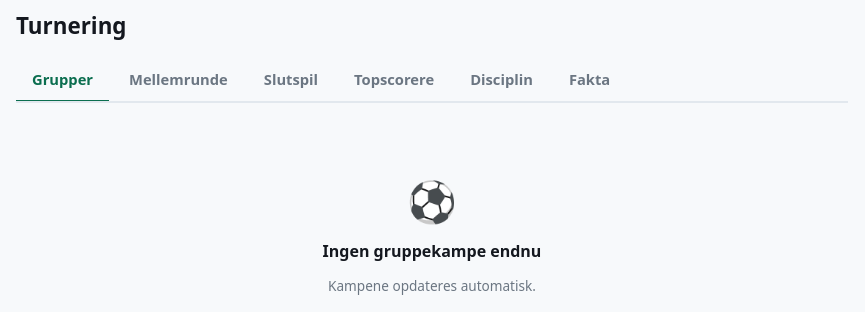
TournamentPage – Mellemrunde-fane › viser r32-kampe grupperet efter dato
The image size is (865, 312).
Click the tab "Mellemrunde" at (178, 81), box 113,59 -> 244,103
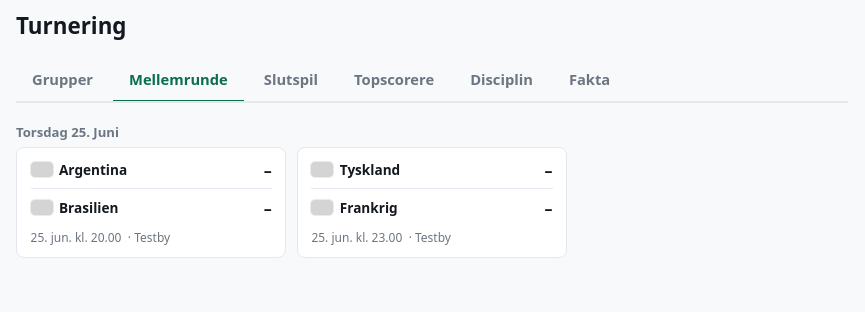
Result: the number of elements with class "round-day-label" is 1 at 16,123 -> 119,141
